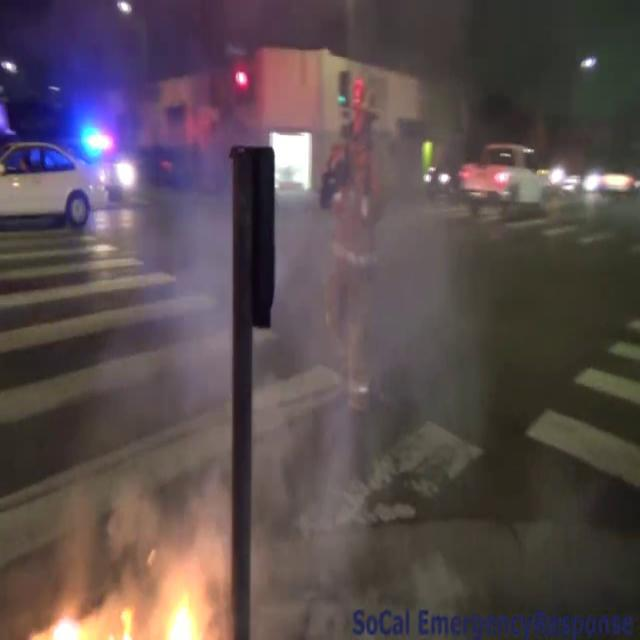Fire: (24, 573, 229, 640)
Smoke: (138, 135, 503, 561)
